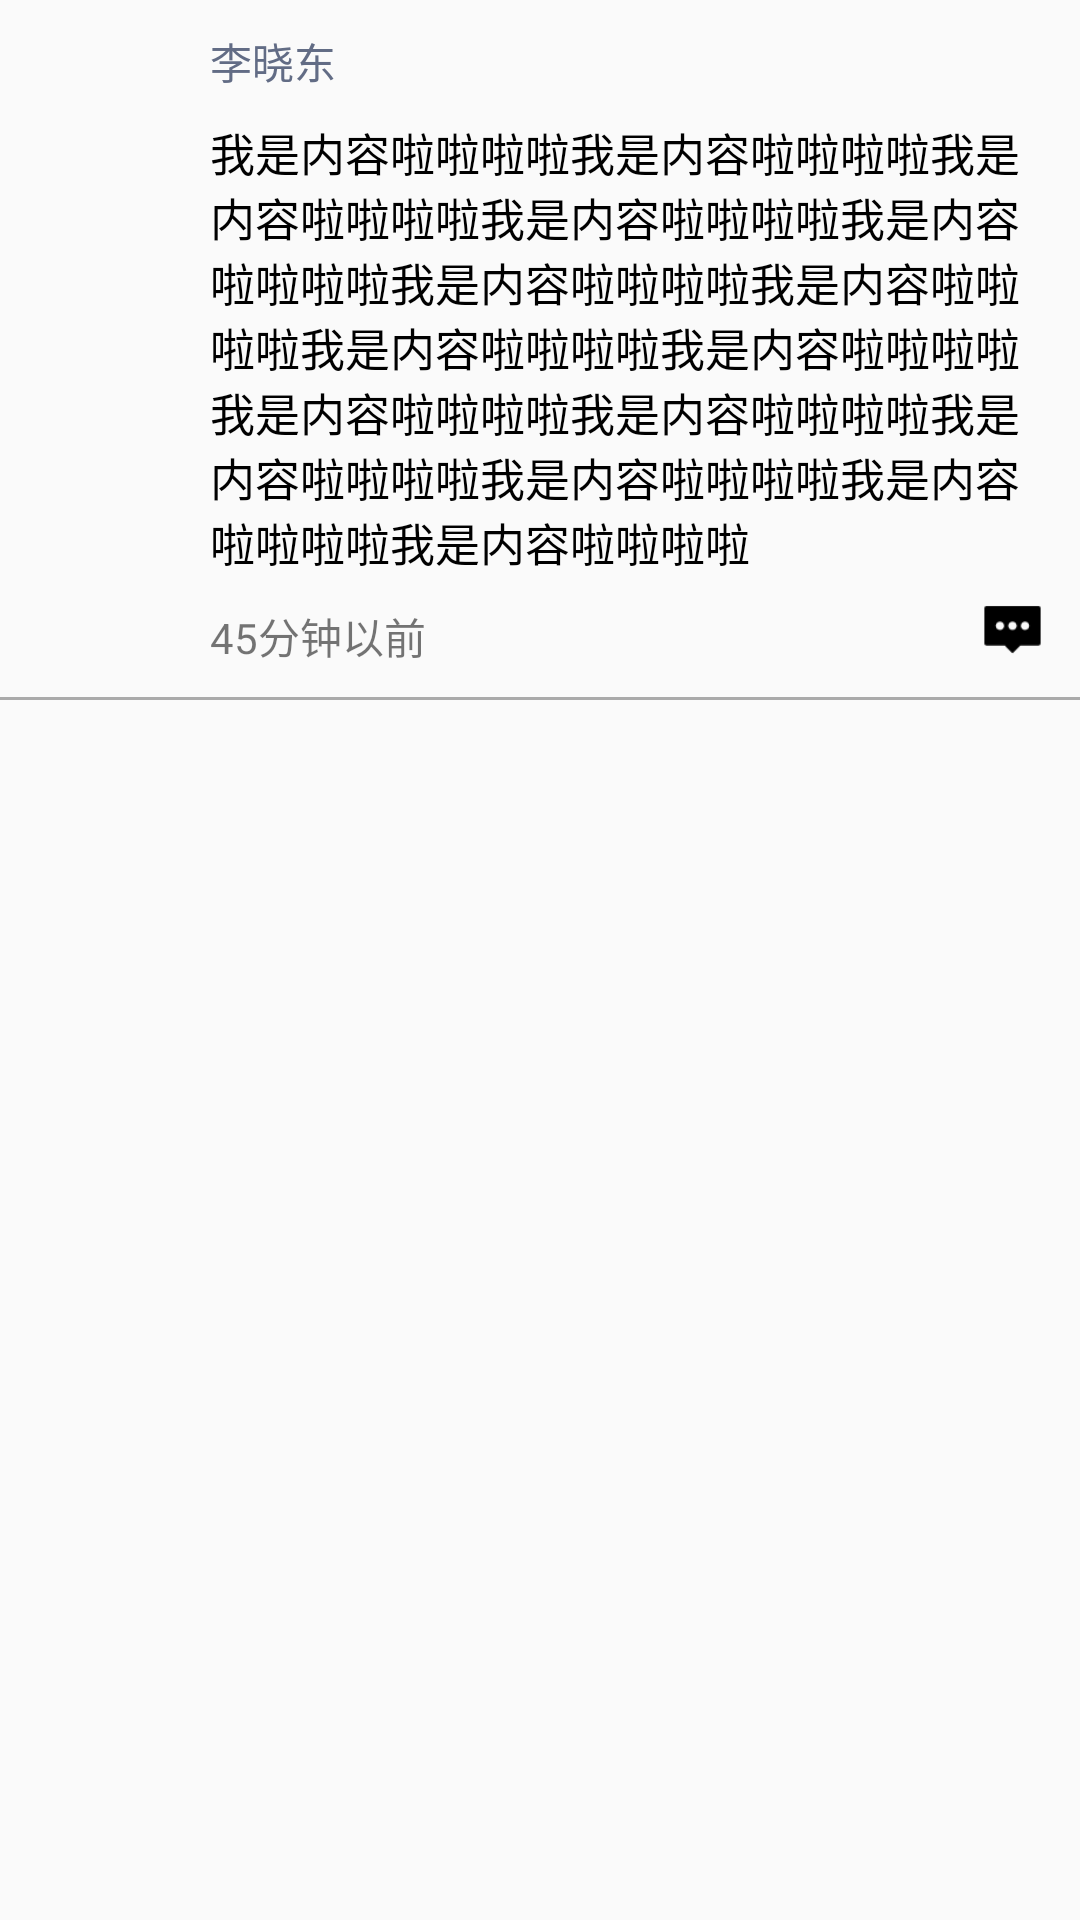

Screen size 1080x1920. Icon name, then its center in pixels as (x,y):
comment: (1012,629)
